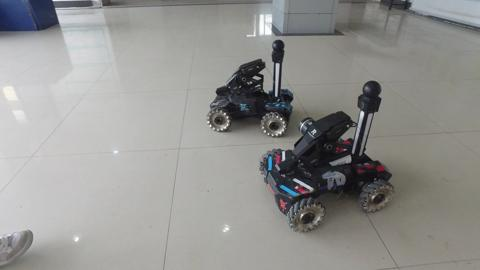chariot: (252, 78, 398, 236), (203, 37, 299, 144)
